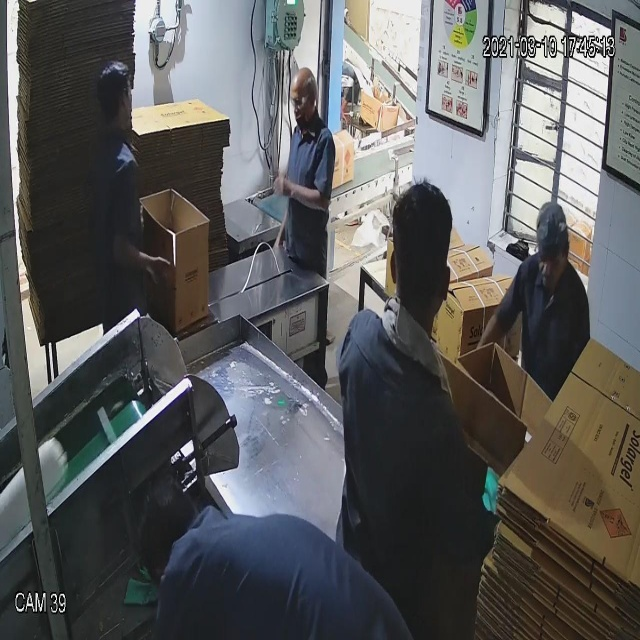Sin_guantes: (268, 170, 332, 233), (111, 226, 168, 295)
